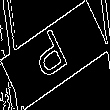P_SE: (31, 24, 79, 86)
